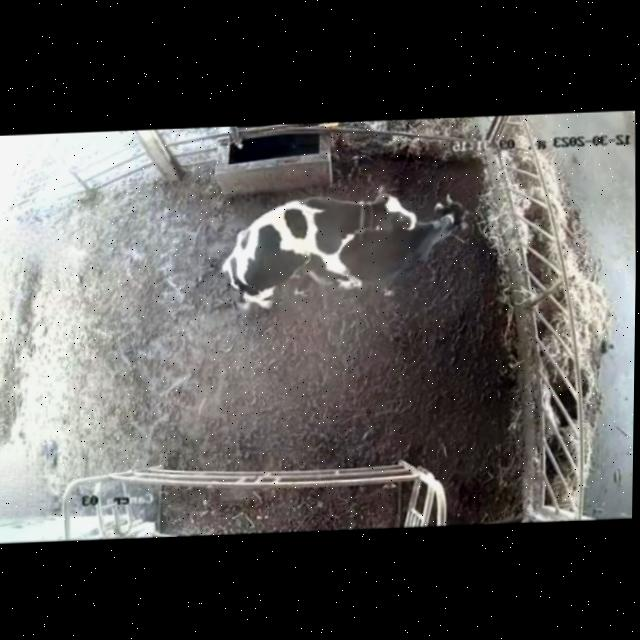ride: (209, 176, 422, 320)
stand: (324, 190, 485, 299)
